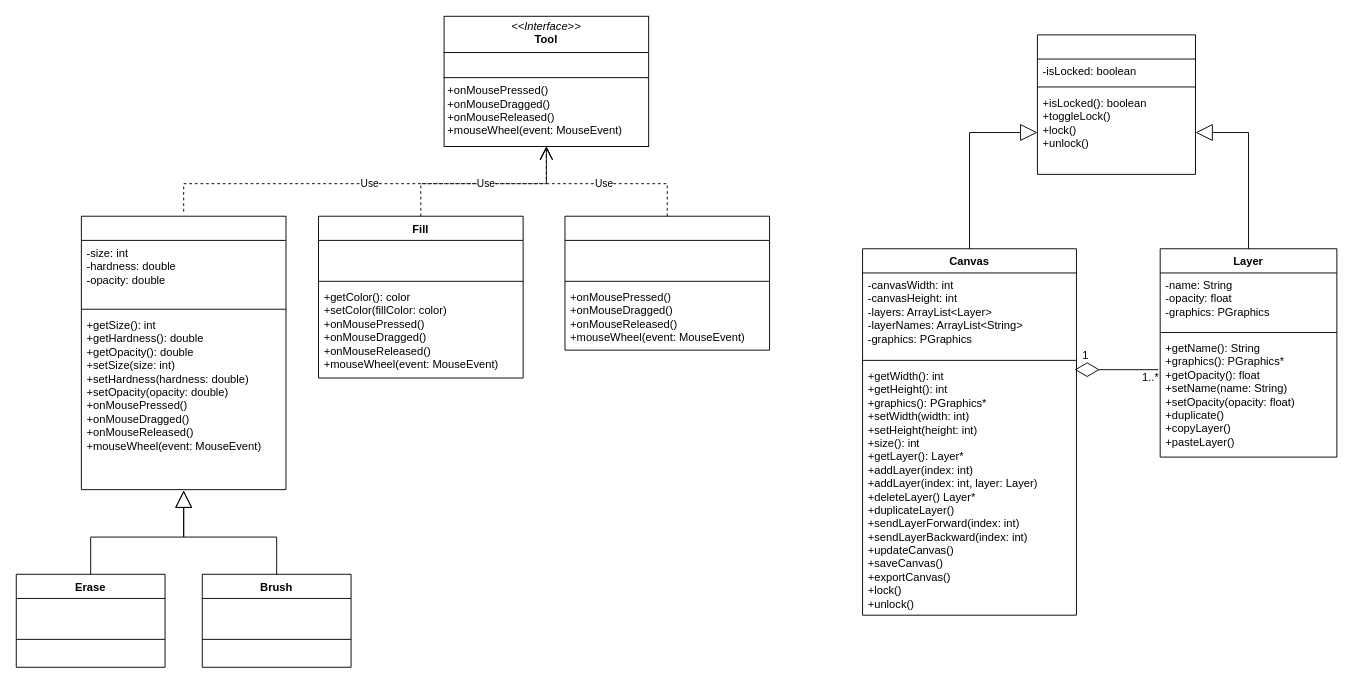
Some shapes in this 1353 by 686 pixel diagram are drawn without their labels. Here are the shapes that lost their labels. From the top down, the box of each, then its label:
(1036, 34, 1196, 174): Lockable
(564, 215, 770, 350): Eyedropper
(80, 215, 286, 490): PaintTool
